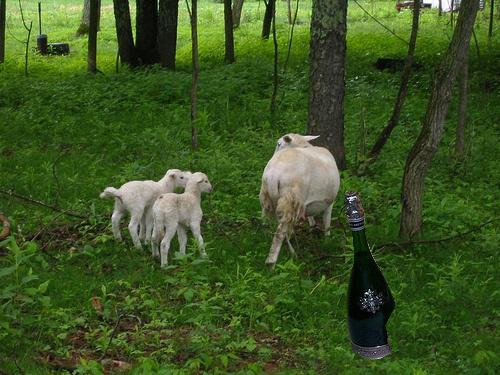tampered: (346, 192, 395, 359)
